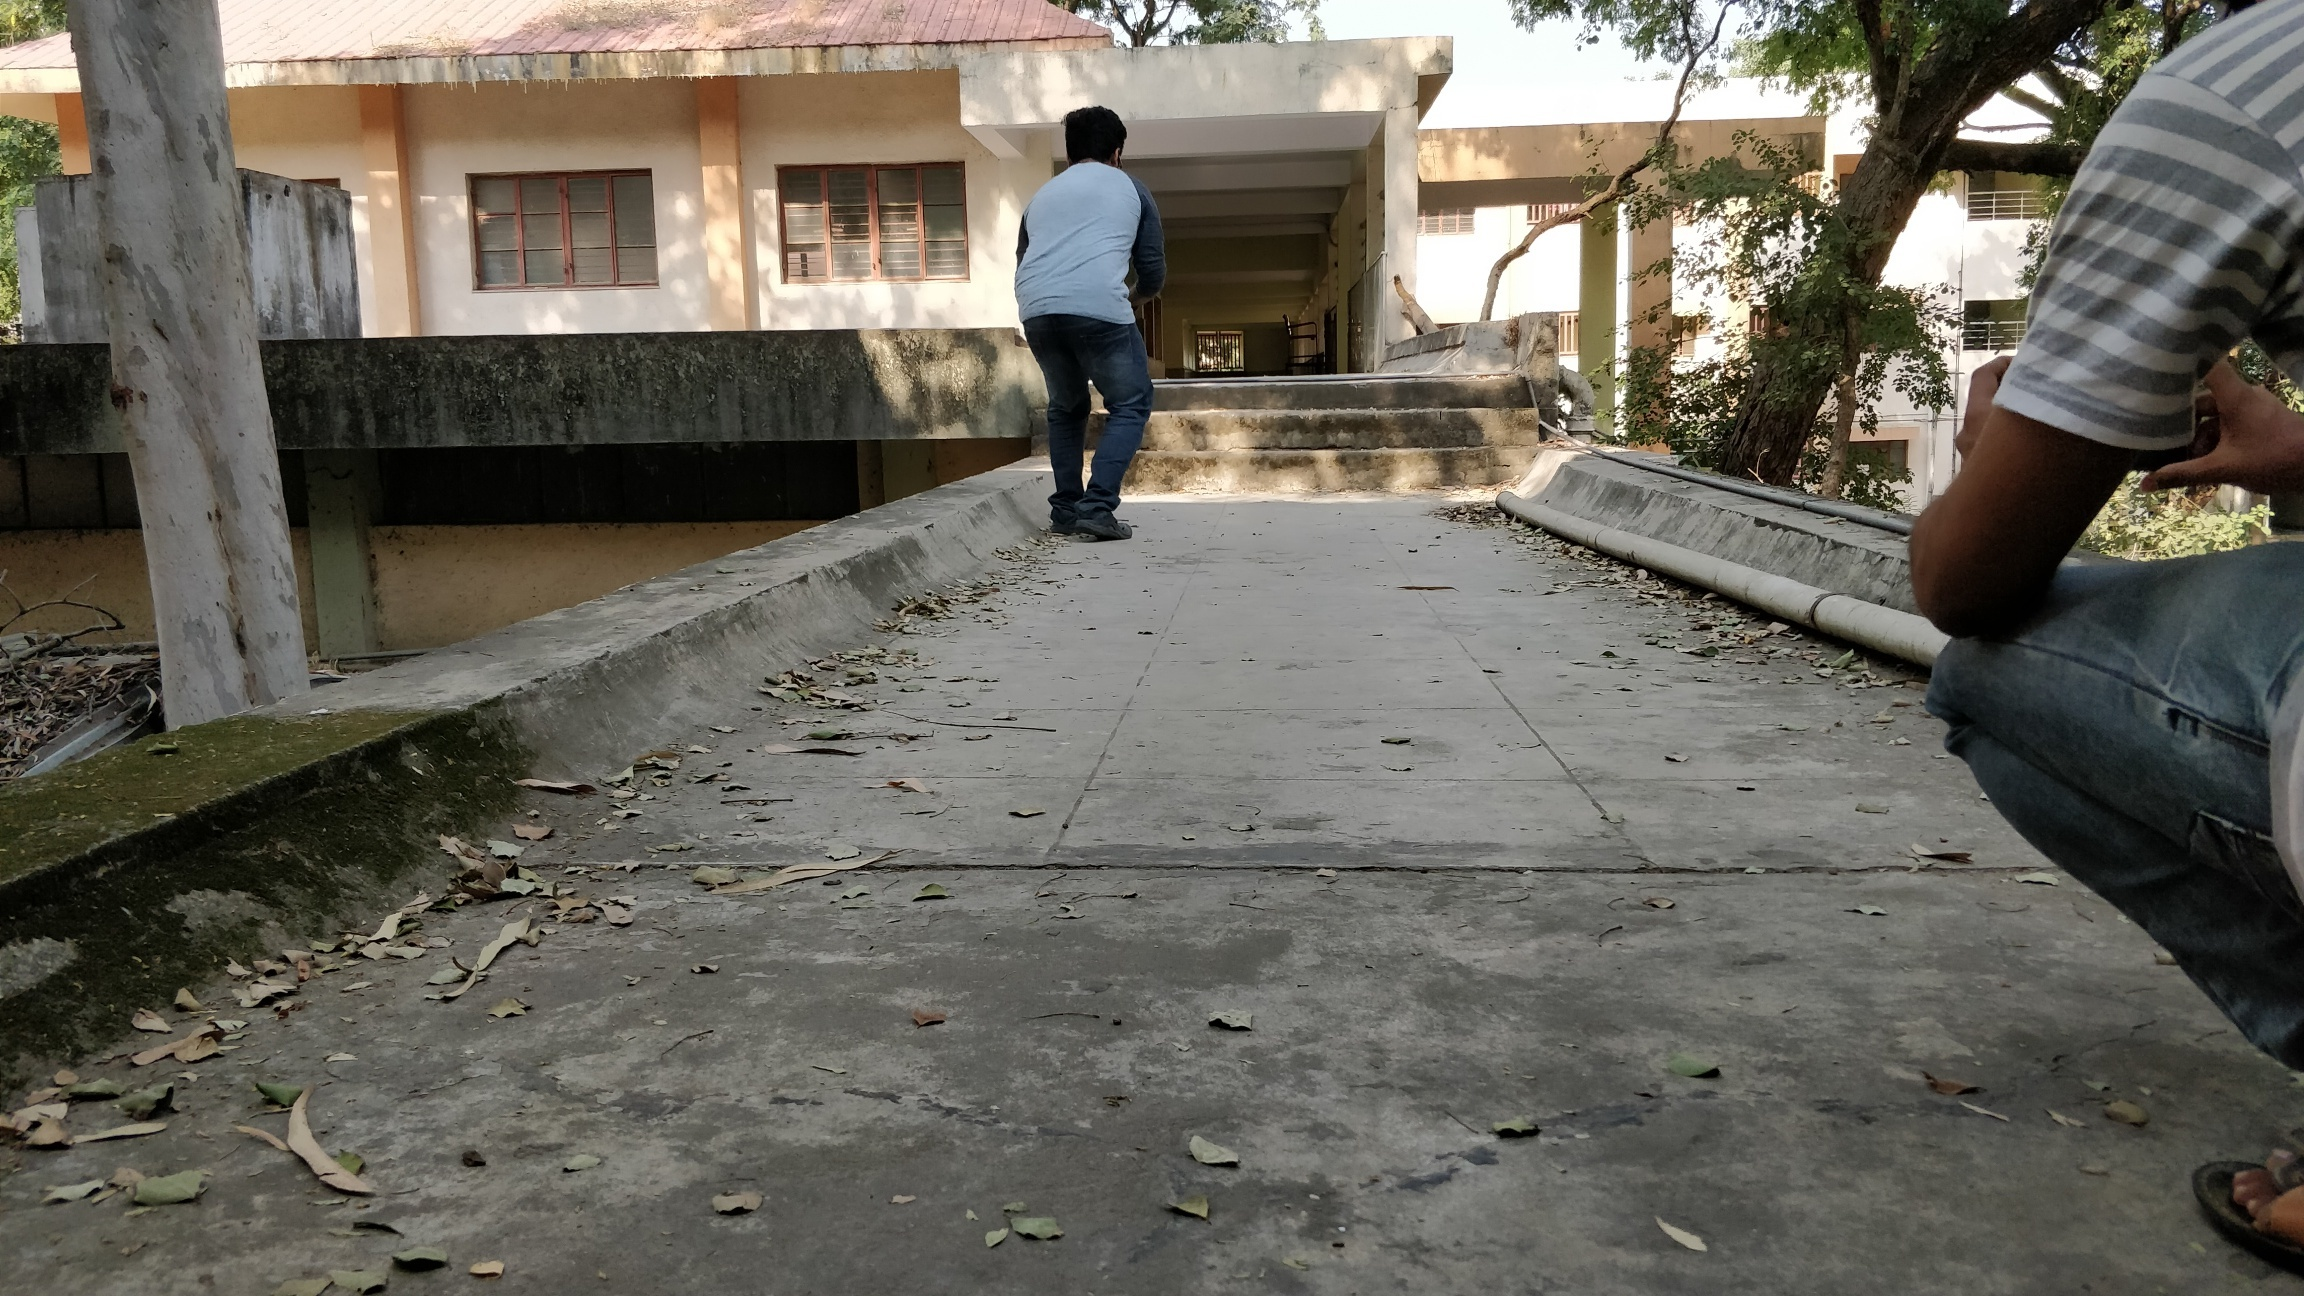stairs_up: (1147, 375, 1538, 506)
